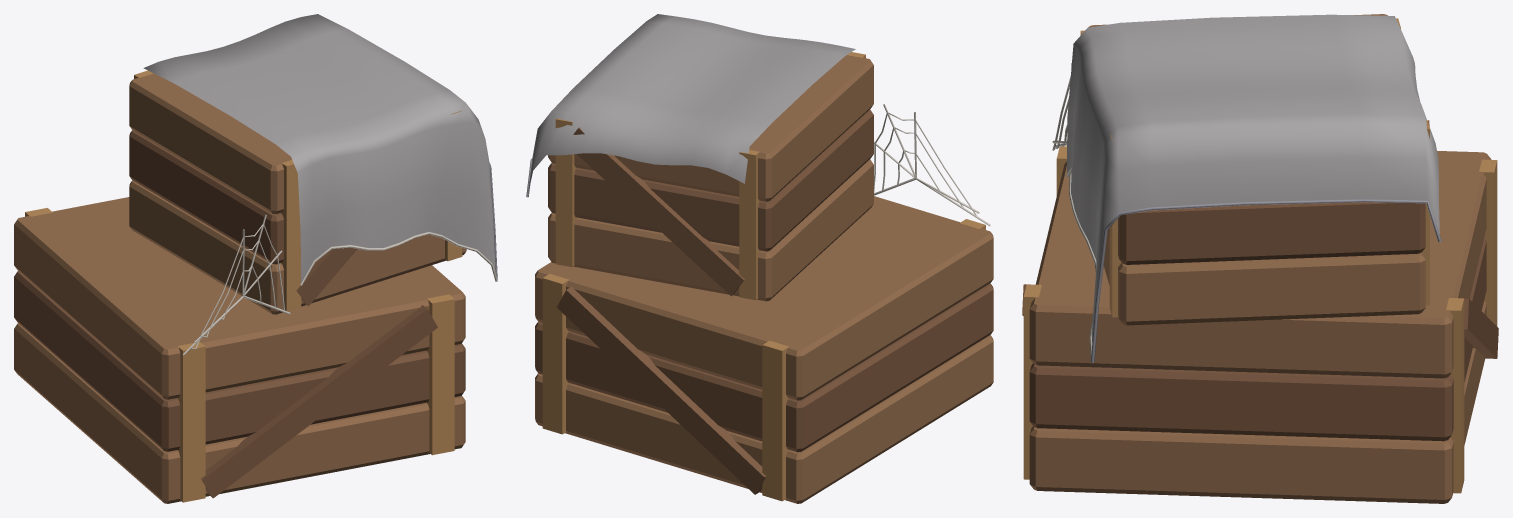
File: junk_1.glb
3 views of the same model, side by side, from view 1: azimuth 30°, elevation 25°; view 2: azimuth 150°, elevation 25°; view 3: azimuth 270°, elevation 25° (orthographic). The views are drawn at different scales.
Parts seen in each view (by area): view 1: junk_1; view 2: junk_1; view 3: junk_1.
Boxes of the visible parts, x1=… form: junk_1: x1=14, y1=14, x2=497, y2=503; junk_1: x1=526, y1=14, x2=993, y2=503; junk_1: x1=1022, y1=14, x2=1498, y2=503.
Bounding box in the file's own units: 0.85 × 0.75 × 0.85.
